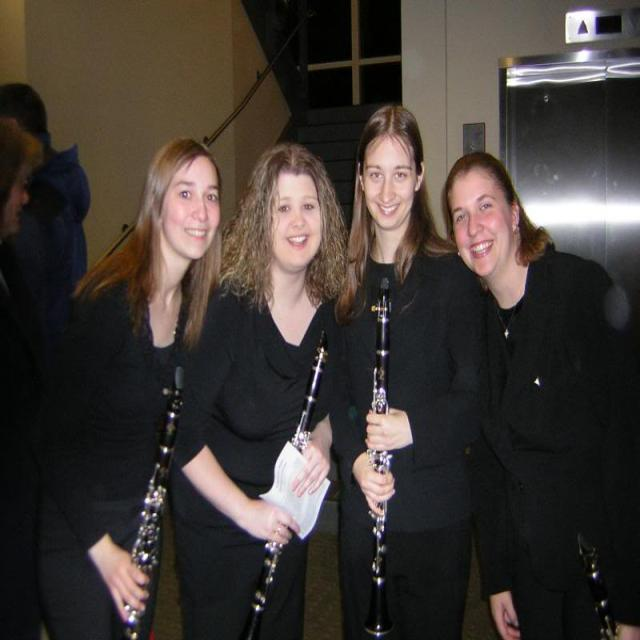clarinet: (239, 317, 333, 640), (119, 359, 188, 640), (365, 274, 393, 640), (568, 538, 630, 640)
